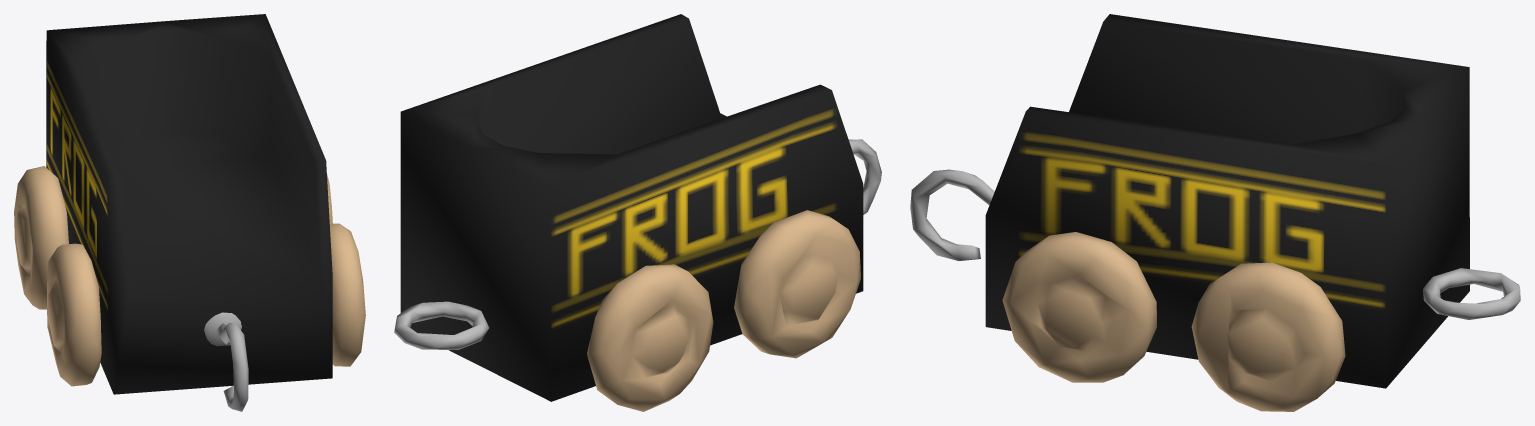
File: frog.fbx
3 renders of one model, left to right at view 1: azimuth 30°, elevation 25°; view 2: azimuth 150°, elevation 25°; view 3: azimuth 270°, elevation 25°, orthographic. The views are drawn at different scales.
Visible parts, largest first — view 1: vagone3; view 2: vagone3; view 3: vagone3.
Part boxes in pixels (x1,y1,x2,y2): vagone3: (14,14,365,411); vagone3: (394,14,881,411); vagone3: (910,14,1520,411).
Bounding box in the file's own units: 349 × 227 × 497.
3 materials, 1 textured.
